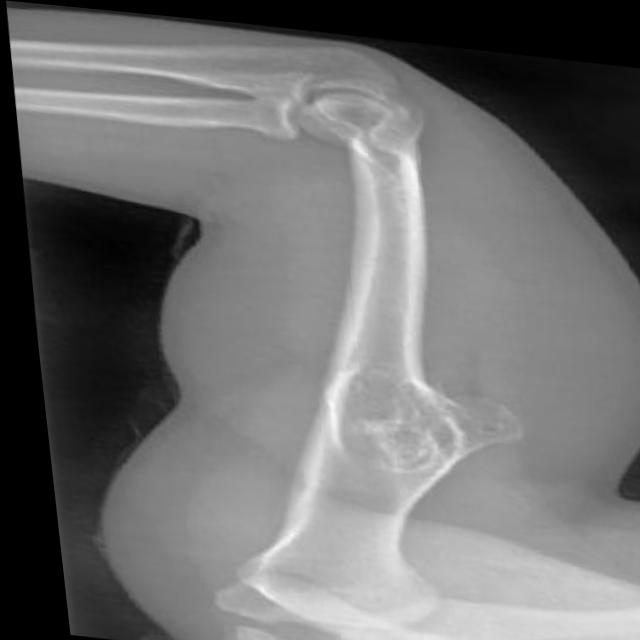fracture: (303, 357, 476, 477)
